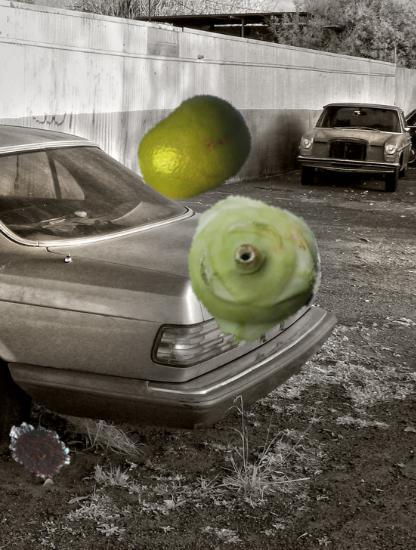Kohlrabi: (174, 197, 323, 346)
Pomelo: (133, 88, 254, 209)
Rambutan: (5, 418, 73, 486)
